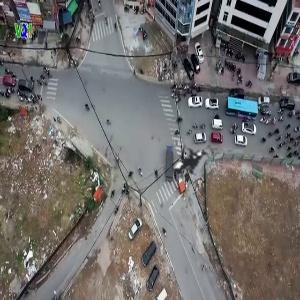drone: (131, 95, 260, 224)
